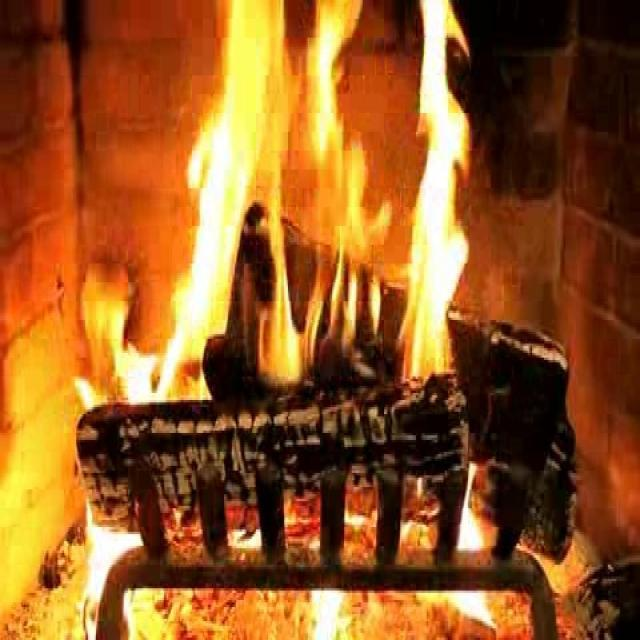Fire: (150, 4, 477, 398)
